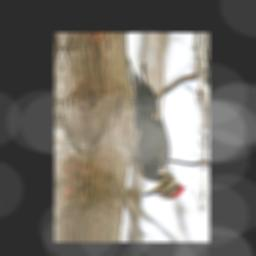Woodpecker: (120, 54, 191, 201)
